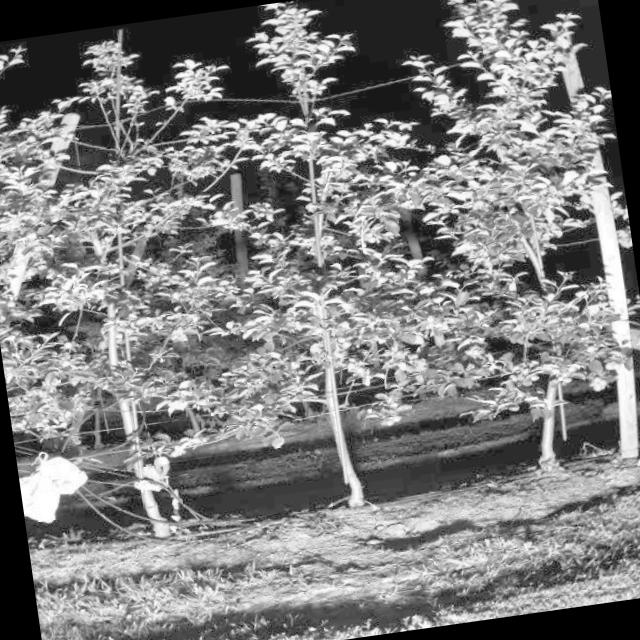Tree: (212, 0, 435, 521), (411, 0, 622, 481), (34, 39, 210, 545)
